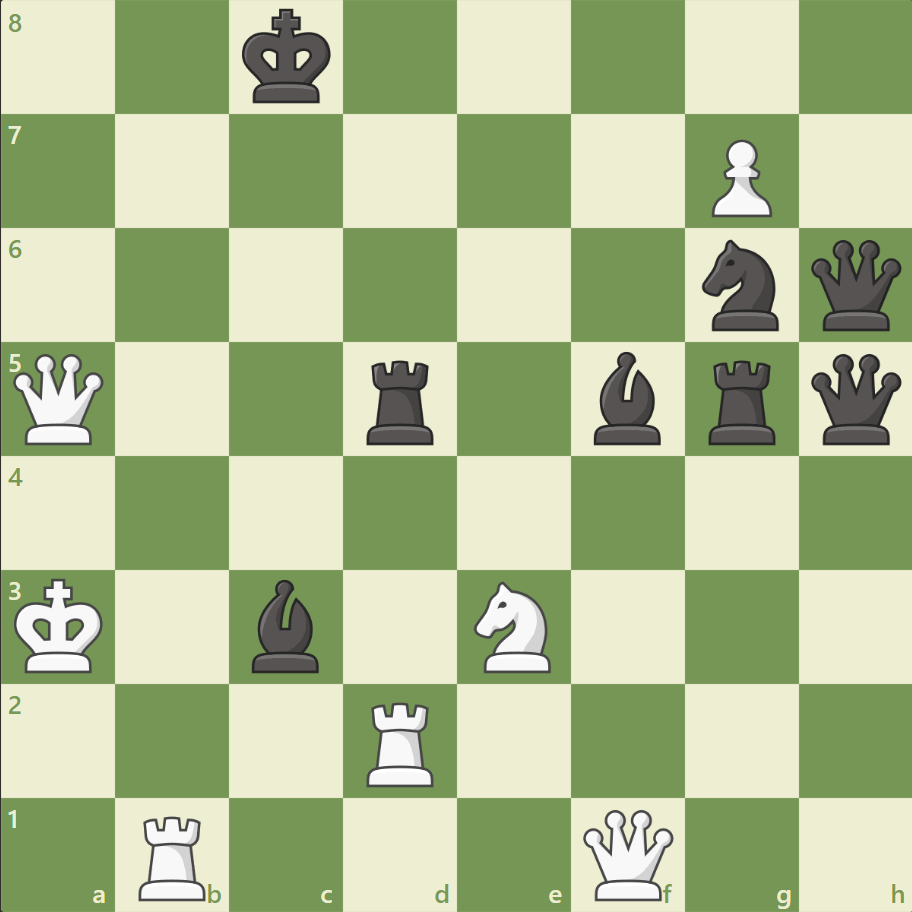K: (11, 571, 111, 679)
N: (465, 575, 562, 677)
P: (701, 132, 776, 223)
Q: (10, 349, 109, 449), (578, 804, 677, 903)
R: (133, 806, 215, 904), (360, 693, 442, 790)
b: (585, 347, 669, 449), (244, 574, 328, 676)
k: (238, 4, 338, 112)
n: (692, 234, 789, 337)
q: (805, 349, 904, 449), (805, 236, 904, 335)
r: (700, 352, 783, 449), (360, 352, 442, 449)
